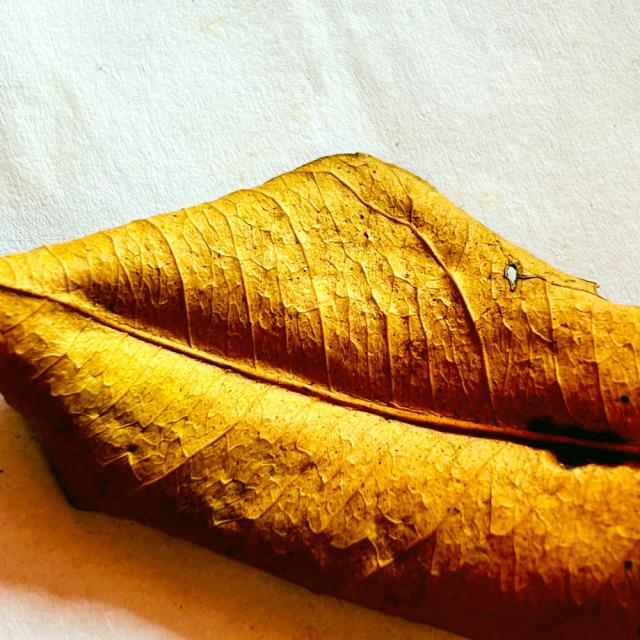DryLeaf_Lemon: (0, 153, 639, 637)
